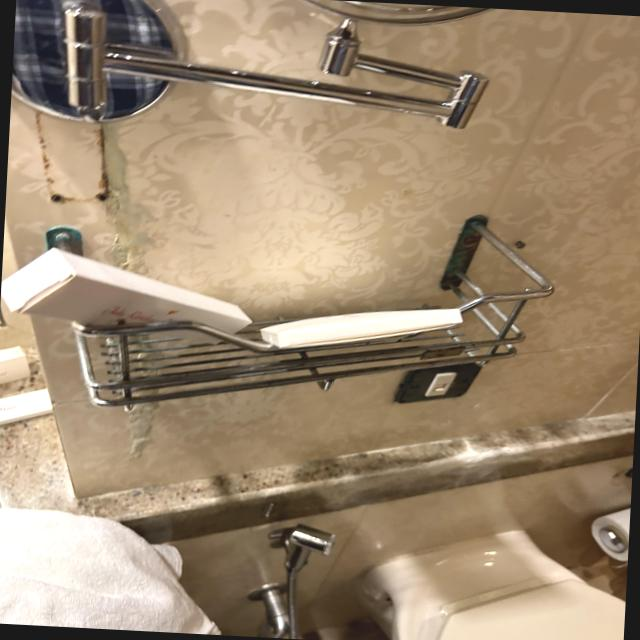mess: (0, 223, 609, 446)
